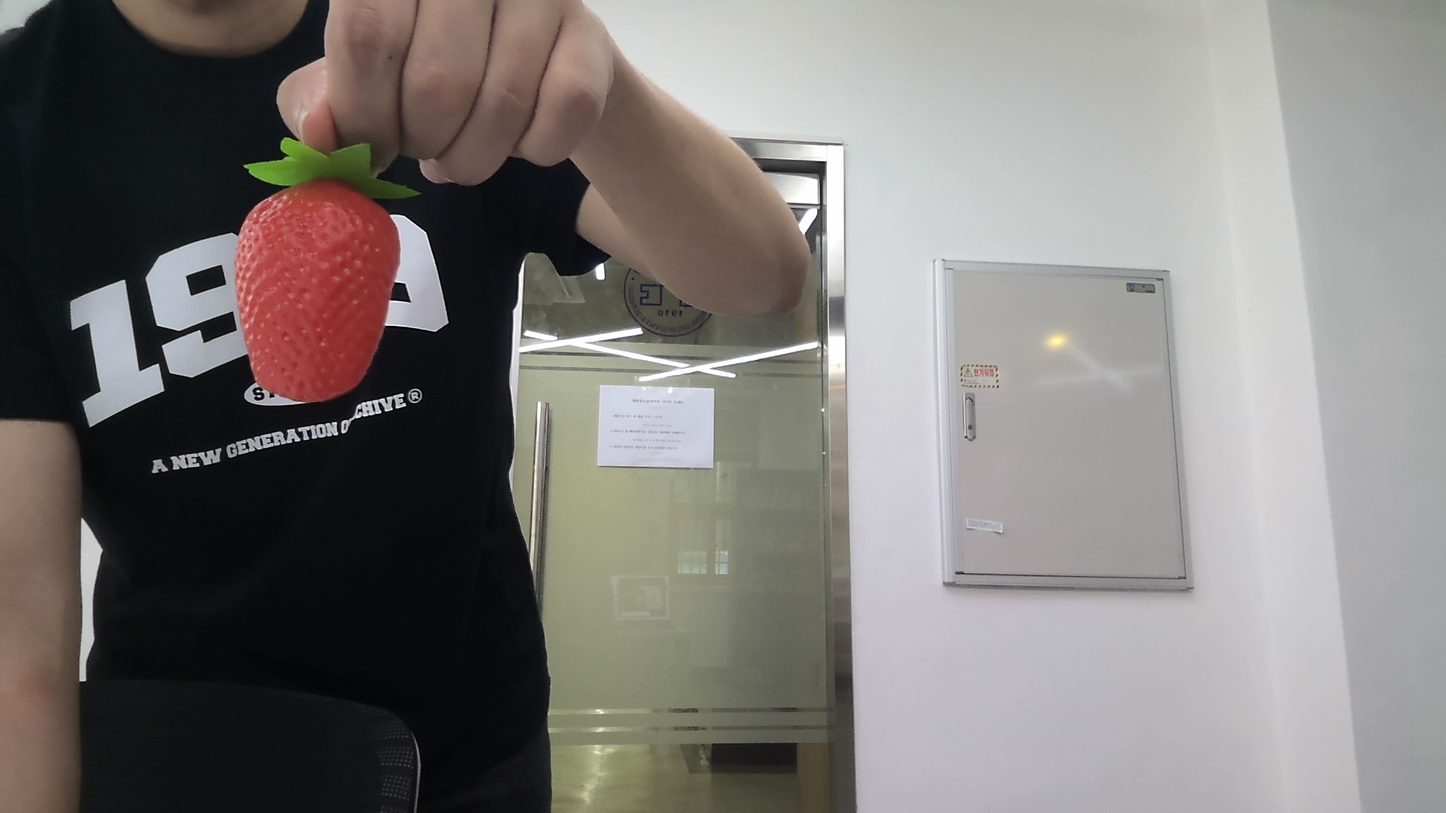strawberry: (217, 173, 412, 408)
